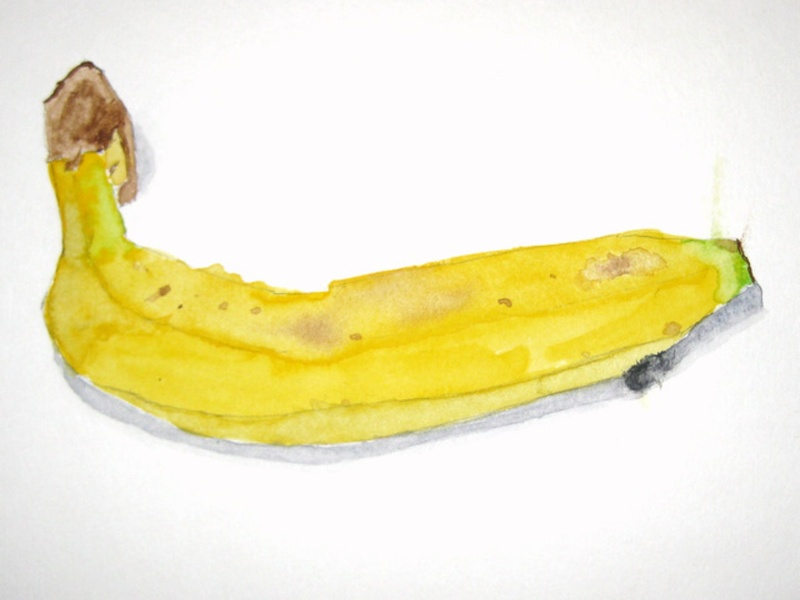banana: (17, 58, 768, 451)
